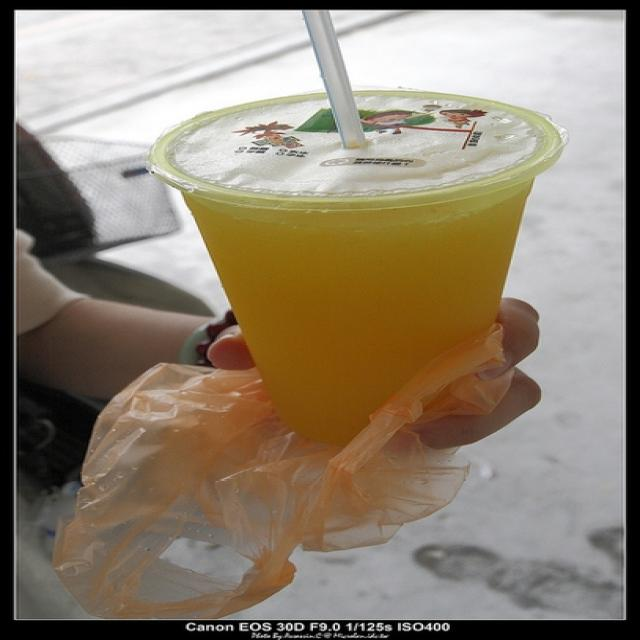蛋糕甜品: (135, 56, 591, 415)
